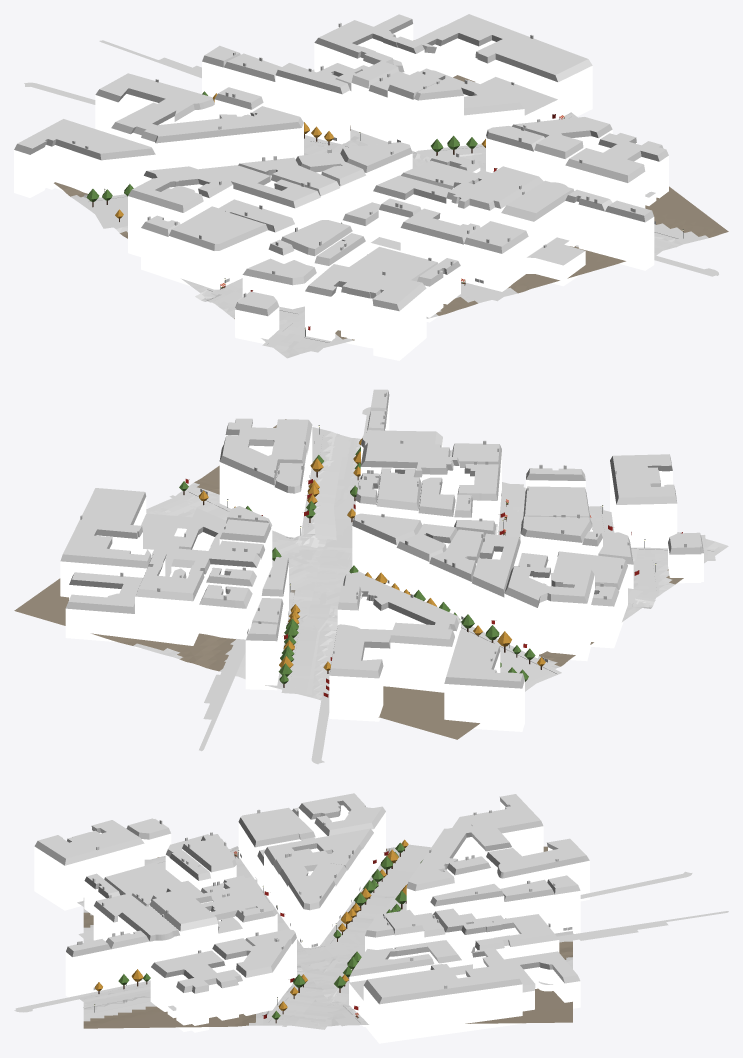
File: zone_E1.glb
3 renders of one model, top to bottom at view 1: azimuth 30°, elevation 25°; view 2: azimuth 150°, elevation 25°; view 3: azimuth 270°, elevation 25°, orthographic. The views are drawn at different scales.
Parts seen in each view (by area): view 1: zone_E1_batiments, zone_E1_sol_NOCOL, zone_E1_terrain, zone_E1_decor_NOCOL; view 2: zone_E1_batiments, zone_E1_sol_NOCOL, zone_E1_terrain, zone_E1_decor_NOCOL; view 3: zone_E1_batiments, zone_E1_sol_NOCOL, zone_E1_terrain, zone_E1_decor_NOCOL.
Boxes of the visible parts, bbox=[...] form: zone_E1_batiments: bbox=[14, 14, 668, 360]; zone_E1_sol_NOCOL: bbox=[24, 40, 718, 352]; zone_E1_terrain: bbox=[54, 40, 728, 358]; zone_E1_decor_NOCOL: bbox=[86, 91, 683, 336]; zone_E1_batiments: bbox=[60, 389, 703, 731]; zone_E1_sol_NOCOL: bbox=[146, 407, 715, 764]; zone_E1_terrain: bbox=[14, 419, 728, 739]; zone_E1_decor_NOCOL: bbox=[179, 425, 656, 687]; zone_E1_batiments: bbox=[34, 793, 589, 1043]; zone_E1_sol_NOCOL: bbox=[14, 844, 728, 1029]; zone_E1_terrain: bbox=[83, 846, 572, 1028]; zone_E1_decor_NOCOL: bbox=[94, 839, 422, 1023].
Bounding box in the file's own units: 228 × 35 × 311.
